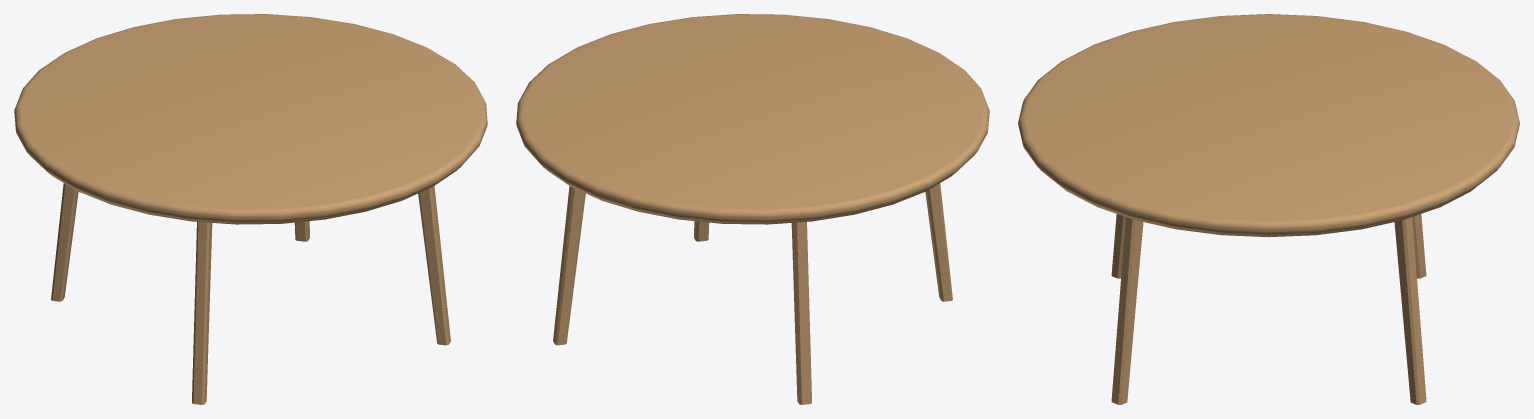
File: table.obj
3 renders of one model, left to right at view 1: azimuth 30°, elevation 25°; view 2: azimuth 150°, elevation 25°; view 3: azimuth 270°, elevation 25°, orthographic. The views are drawn at different scales.
Parts seen in each view (by area): view 1: table.001; view 2: table.001; view 3: table.001.
Boxes of the visible parts, x1,y1,x2,y2 form: table.001: [14, 14, 487, 404]; table.001: [516, 14, 989, 404]; table.001: [1018, 14, 1519, 404].
Bounding box in the file's own units: 0.9594 × 0.4651 × 0.9594.
